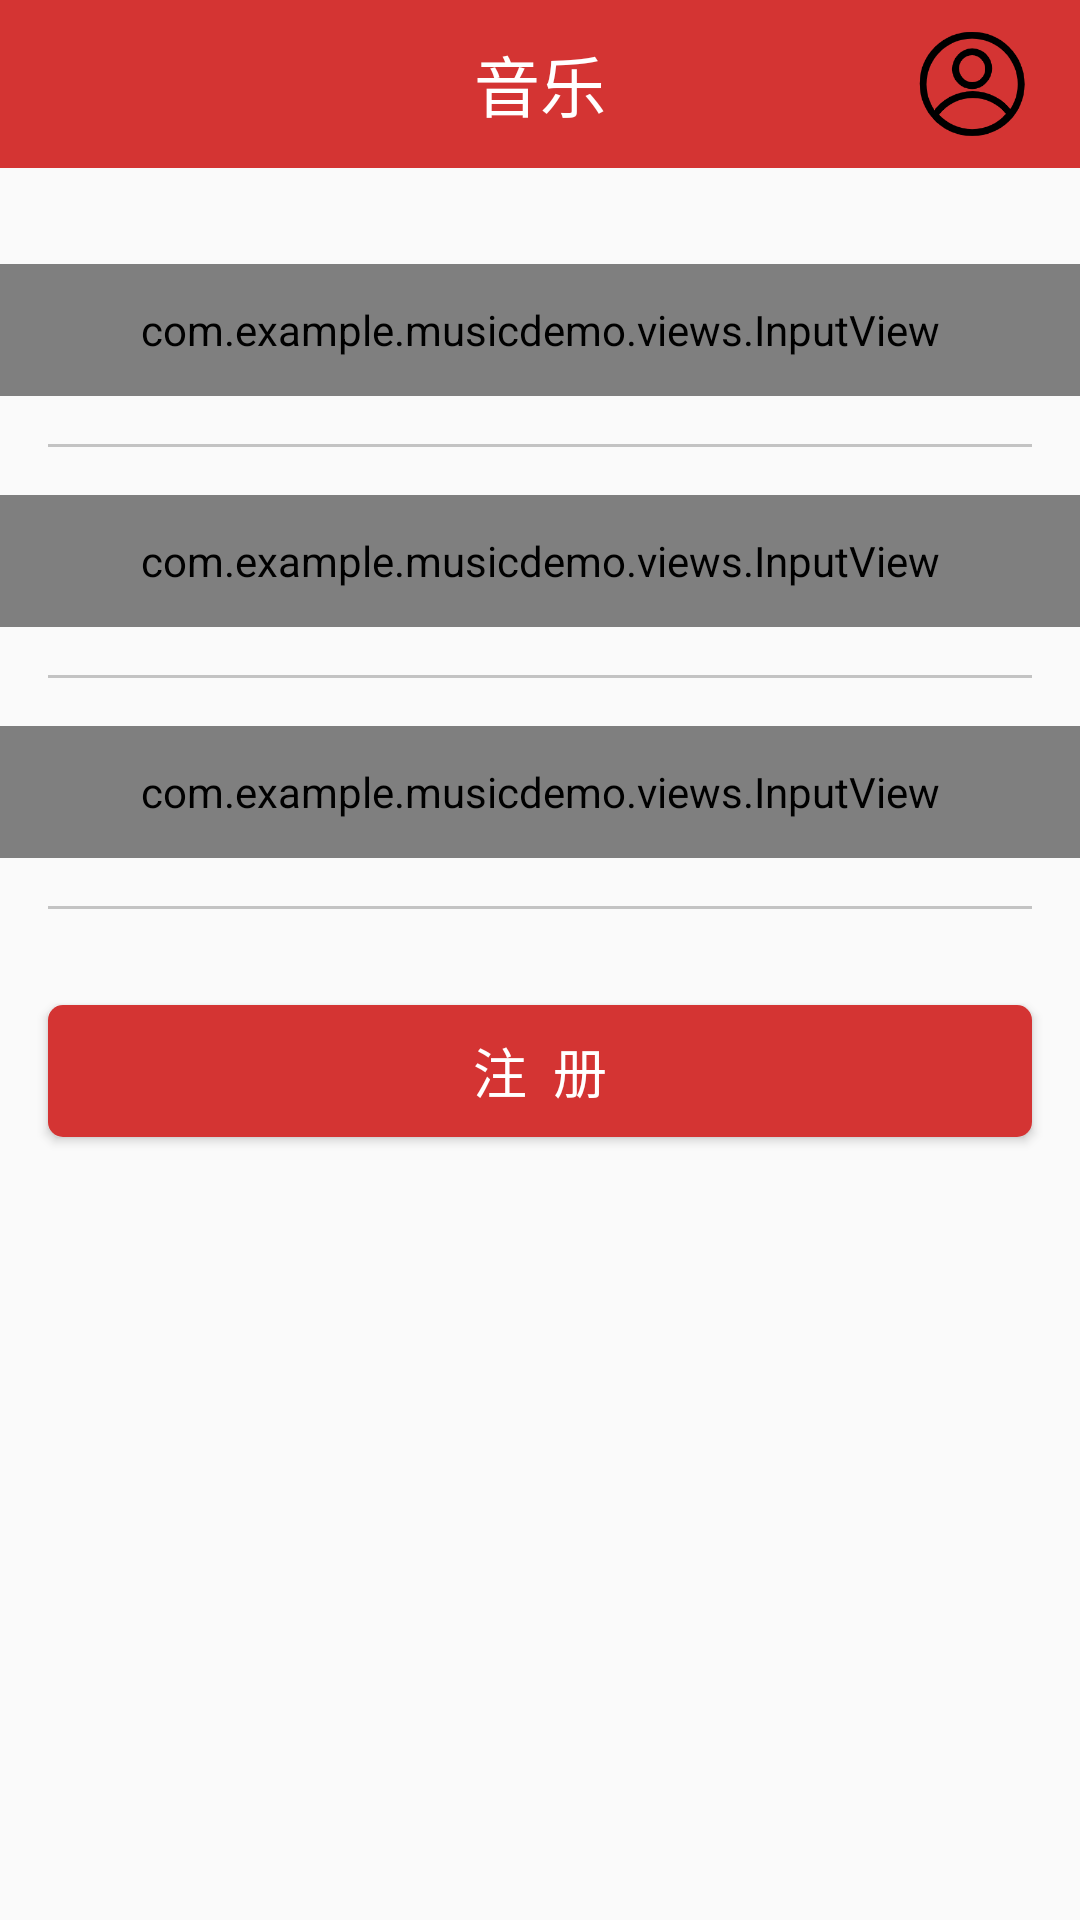

Where to tap for icons on this 1080x1920 app screen, as (x=x, y=y):
user: (x=972, y=84)
